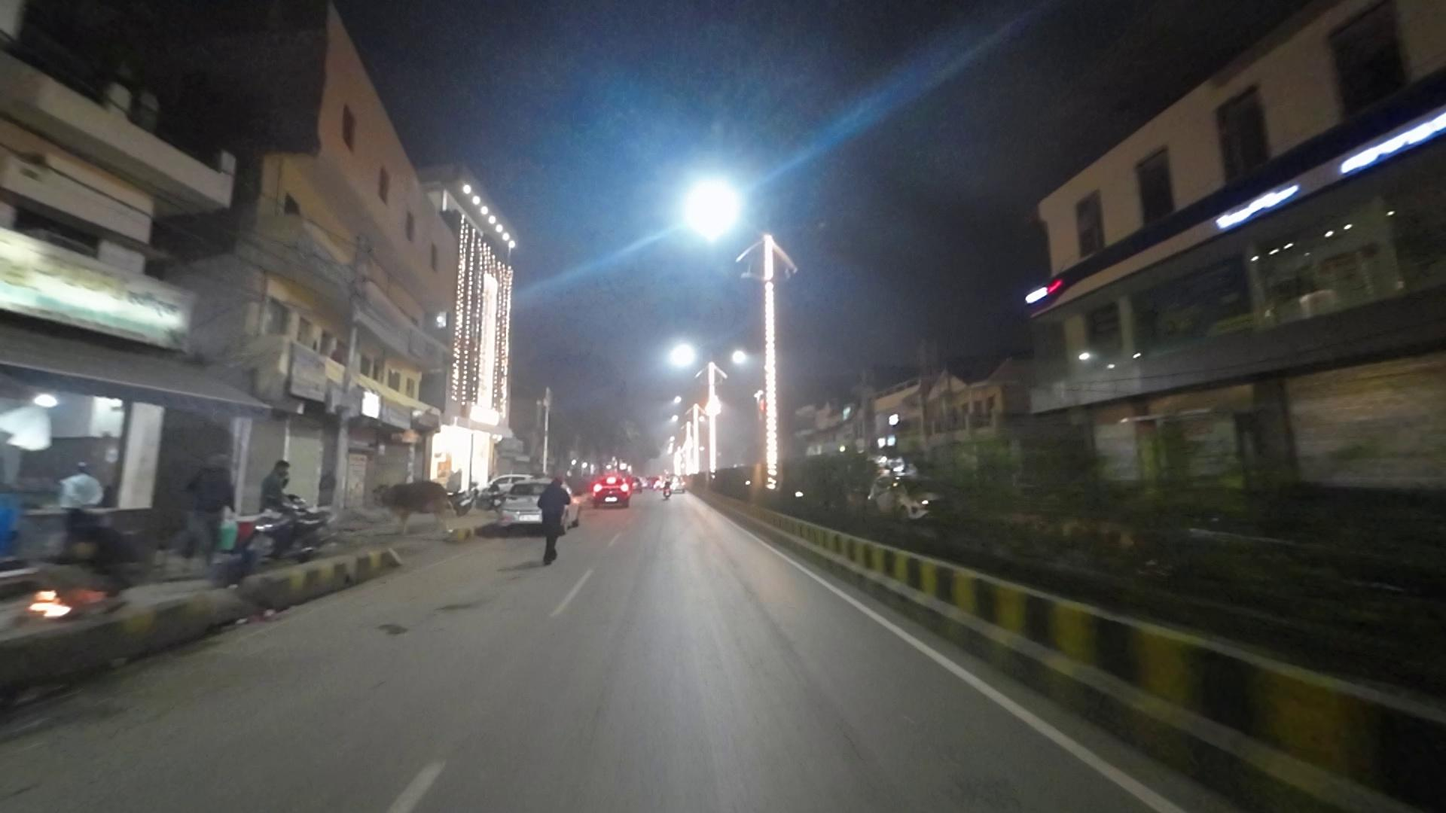streetlight: (776, 219, 830, 237)
